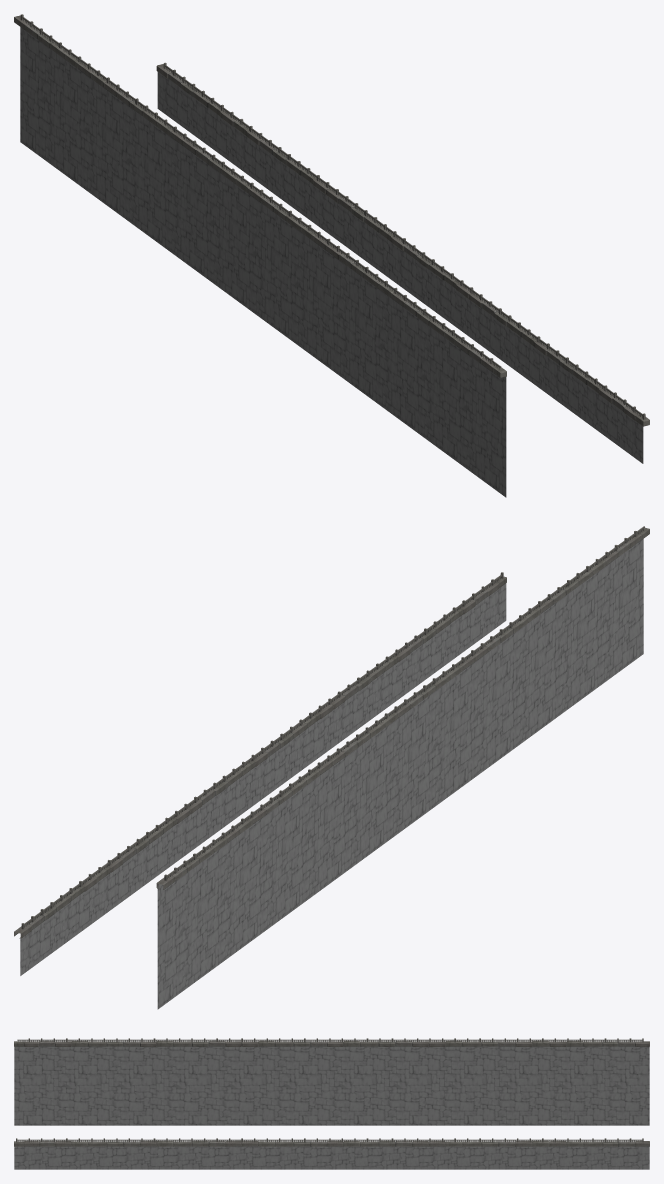
File: SM_ENV_KNVLLG_Wall_04.mo.fbx
3 views of the same model, one above another, from view 1: azimuth 30°, elevation 25°; view 2: azimuth 150°, elevation 25°; view 3: azimuth 270°, elevation 25° (orthographic). The views are drawn at different scales.
Parts seen in each view (by area): view 1: SM_ENV_KNVLLG_Wall_04.mo; view 2: SM_ENV_KNVLLG_Wall_04.mo; view 3: SM_ENV_KNVLLG_Wall_04.mo.
Part boxes in pixels (x1,y1,x2,y2): SM_ENV_KNVLLG_Wall_04.mo: [14, 14, 649, 497]; SM_ENV_KNVLLG_Wall_04.mo: [14, 526, 649, 1009]; SM_ENV_KNVLLG_Wall_04.mo: [14, 1038, 649, 1169].
Size of the model in its own units: 16.38 by 13.77 by 92.12.
